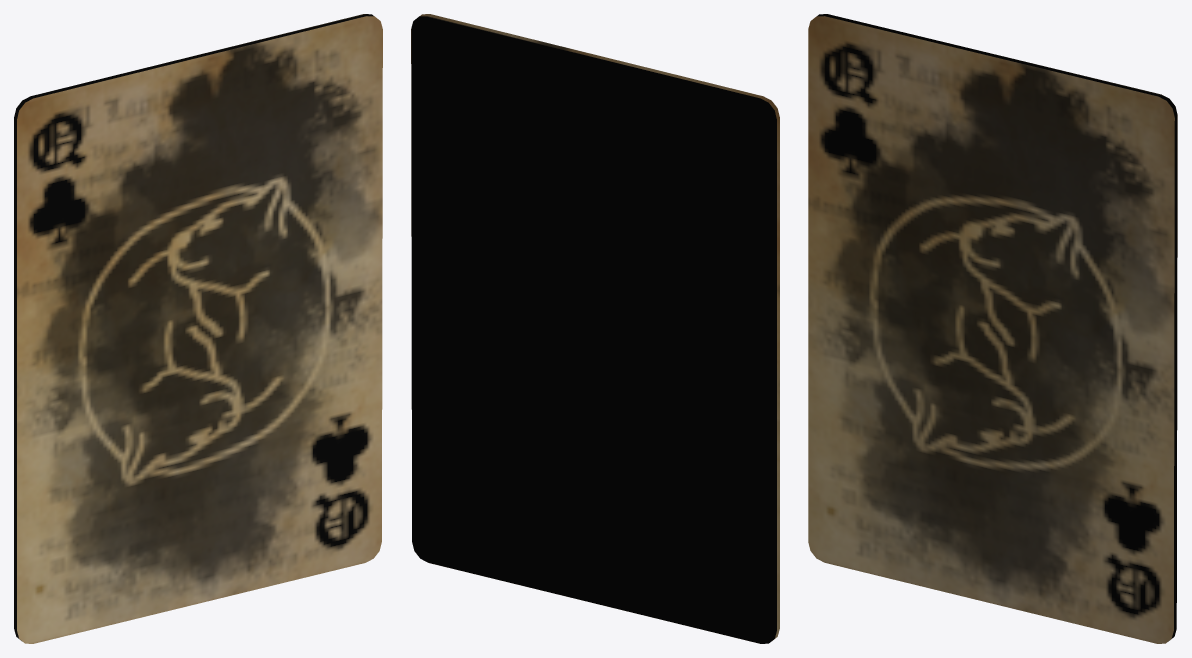
The model's file is Card.012.fbx.
The picture shows the model from 3 angles, left to right: view 1: azimuth 30°, elevation 25°; view 2: azimuth 150°, elevation 25°; view 3: azimuth 330°, elevation 25°; orthographic projection.
Parts seen in each view (by area): view 1: Card.012; view 2: Card.012; view 3: Card.012.
Part boxes in pixels (x1,y1,x2,y2): Card.012: [14, 14, 382, 643]; Card.012: [411, 14, 779, 643]; Card.012: [808, 14, 1177, 643].
Bounding box in the file's own units: 11.23 × 16.03 × 0.1561.
